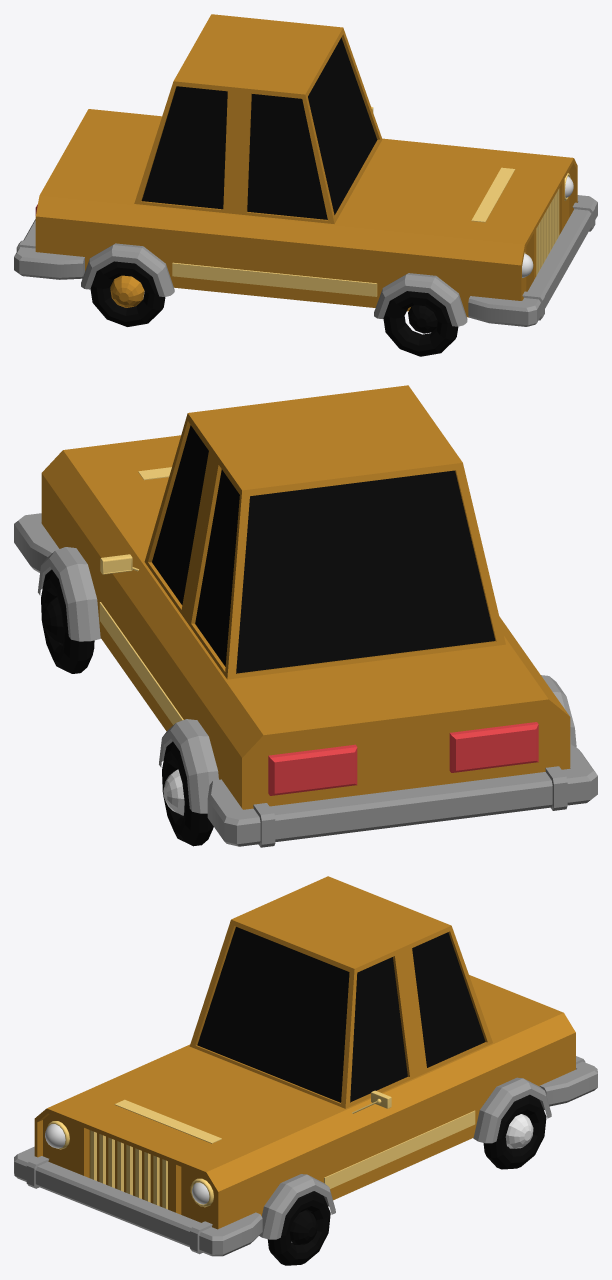
File: carro.glb
The picture shows the model from 3 angles, top to bottom: view 1: azimuth 30°, elevation 25°; view 2: azimuth 150°, elevation 25°; view 3: azimuth 270°, elevation 25°; orthographic projection. The views are drawn at different scales.
Visible parts, largest first — view 1: carro_taz; view 2: carro_taz; view 3: carro_taz.
Boxes of the visible parts, bbox=[...] form: carro_taz: bbox=[14, 14, 597, 356]; carro_taz: bbox=[14, 385, 597, 847]; carro_taz: bbox=[14, 876, 597, 1265].
Size of the model in its own units: 2.77 by 1.23 by 2.73.
